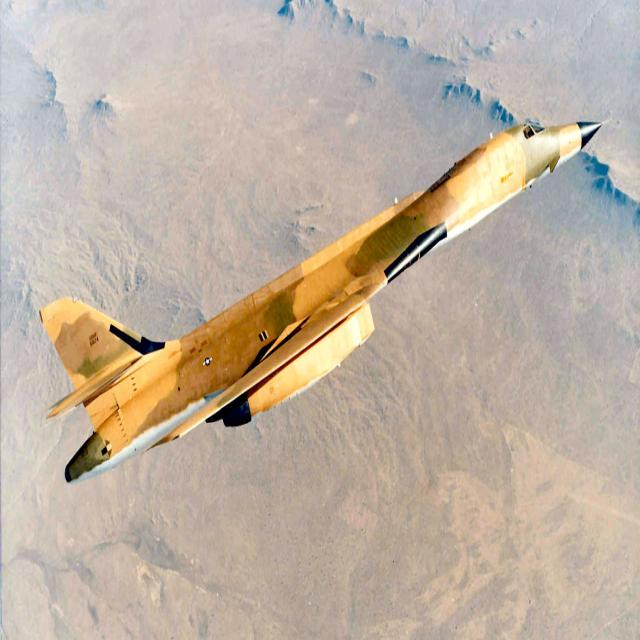MIL_Plane: (38, 117, 612, 486)
